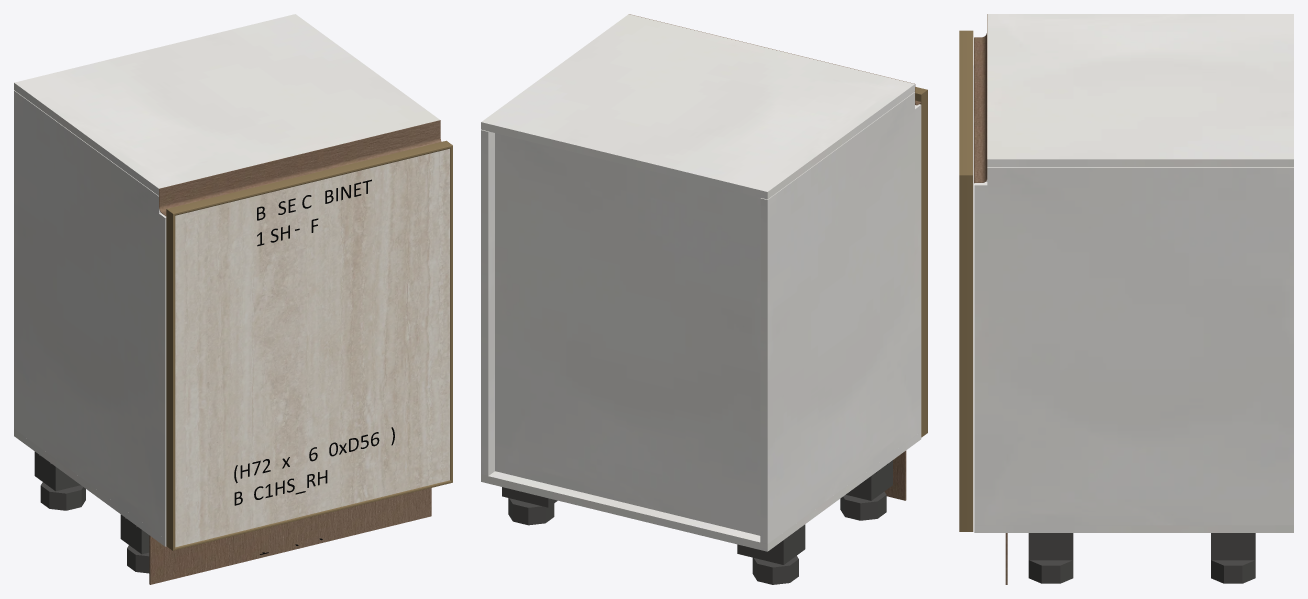
File: BC-SH-CJ-ST-1SX-RHS-XXX-600-720-560-15.glb
3 renders of one model, left to right at view 1: azimuth 30°, elevation 25°; view 2: azimuth 150°, elevation 25°; view 3: azimuth 270°, elevation 25°, orthographic. The views are drawn at different scales.
Parts seen in each view (by area): view 1: Object_node_11, TP_node, TP_node_1, Object_node_13, ExtrSplGeo, Extrusion_node_1, Extrusion, TP, 2D text_node, Extrusion_node_0, Extrusion_node, Foot (+3 smaller); view 2: TP_node_3, TP_node, TP_node_1, TP, TP_node_0, Extrusion_node_1, Plate, Foot, Foot_node_0, Foot_node, Plate_node_0, Object_node_13; view 3: TP_node_0, TP_node_1, Extrusion_node, TP, ExtrSplGeo, Extrusion, Plate_node_1, Plate_node, Foot_node_1, Foot_node.
Boxes of the visible parts, left/top/right/bottom form: Object_node_11: left=175, top=148, right=449, bottom=547; TP_node: left=14, top=90, right=166, bottom=539; TP_node_1: left=14, top=14, right=439, bottom=195; Object_node_13: left=149, top=488, right=431, bottom=584; ExtrSplGeo: left=159, top=120, right=441, bottom=216; Extrusion_node_1: left=166, top=209, right=175, bottom=550; Extrusion: left=167, top=140, right=452, bottom=215; TP: left=14, top=429, right=166, bottom=546; 2D text_node: left=234, top=427, right=394, bottom=505; Extrusion_node_0: left=173, top=480, right=452, bottom=550; Extrusion_node: left=450, top=146, right=452, bottom=482; Foot: left=40, top=482, right=85, bottom=510; TP_node_3: left=495, top=133, right=760, bottom=535; TP_node: left=760, top=92, right=921, bottom=544; TP_node_1: left=481, top=14, right=914, bottom=199; TP: left=481, top=432, right=921, bottom=551; TP_node_0: left=481, top=130, right=494, bottom=475; Extrusion_node_1: left=915, top=90, right=927, bottom=437; Plate: left=737, top=524, right=805, bottom=564; Foot: left=752, top=555, right=798, bottom=584; Foot_node_0: left=840, top=491, right=886, bottom=520; Foot_node: left=508, top=498, right=554, bottom=525; Plate_node_0: left=846, top=460, right=892, bottom=500; Object_node_13: left=884, top=450, right=906, bottom=500; TP_node_0: left=974, top=167, right=1293, bottom=525; TP_node_1: left=987, top=14, right=1293, bottom=166; Extrusion_node: left=959, top=175, right=973, bottom=531; TP: left=974, top=525, right=1293, bottom=532; ExtrSplGeo: left=974, top=14, right=987, bottom=183; Extrusion: left=959, top=30, right=972, bottom=175; Plate_node_1: left=1028, top=533, right=1073, bottom=560; Plate_node: left=1211, top=533, right=1255, bottom=560; Foot_node_1: left=1028, top=560, right=1073, bottom=583; Foot_node: left=1211, top=560, right=1255, bottom=583.
Size of what is drawn, in the model's own units: 0.6 by 0.82 by 0.5899.
6 materials, 3 textured.
